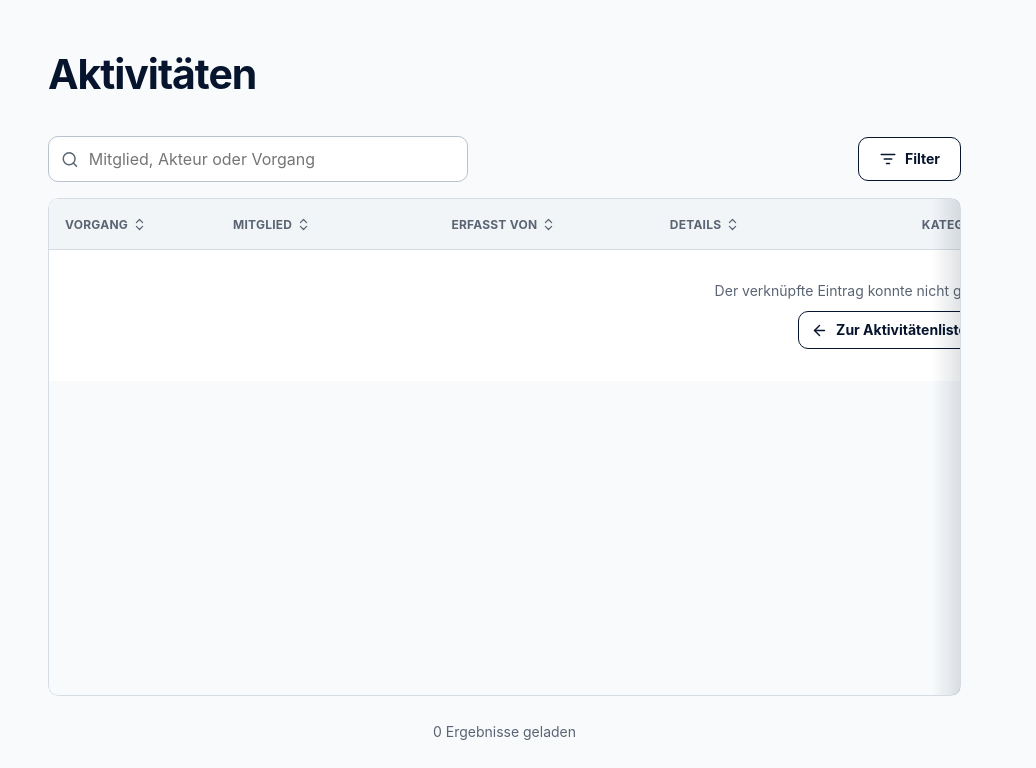
ActivitiesPage unified feed › offers inline recovery when a directly opened anchor cannot be loaded
Click the button "Zur Aktivitätenliste" at (889, 330), box [798,311,980,349]
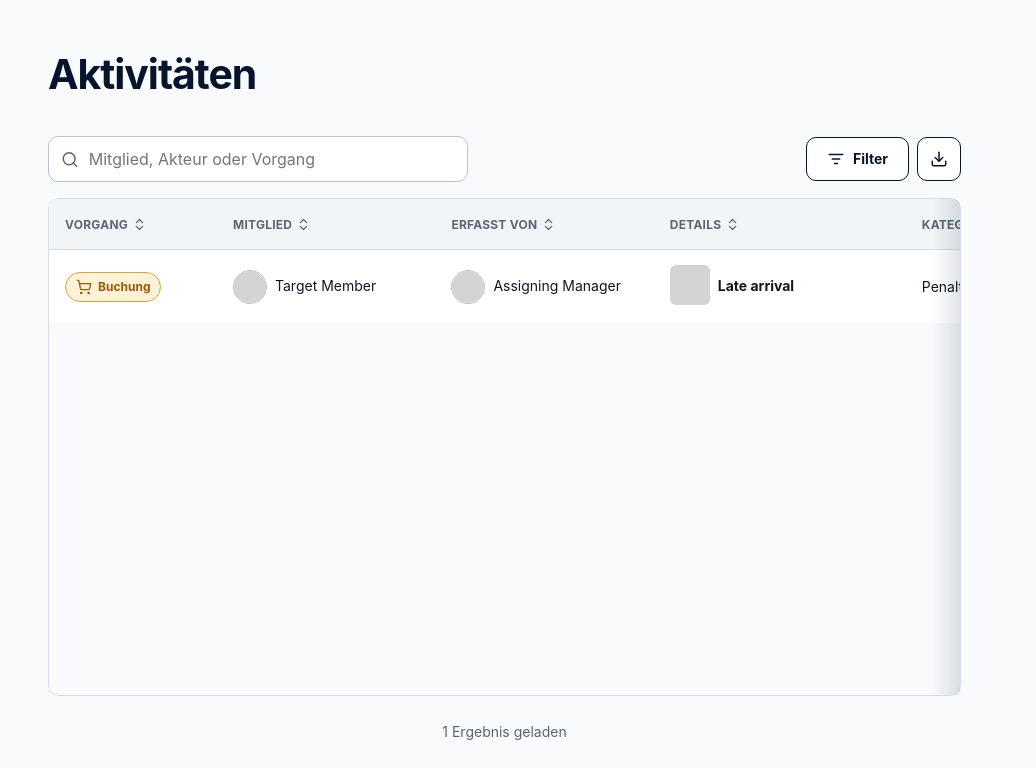
Expected: the picture "Buchung" is shown, [65,272,162,302]
Expected: the button "Zur Aktivitätenliste" is gone
